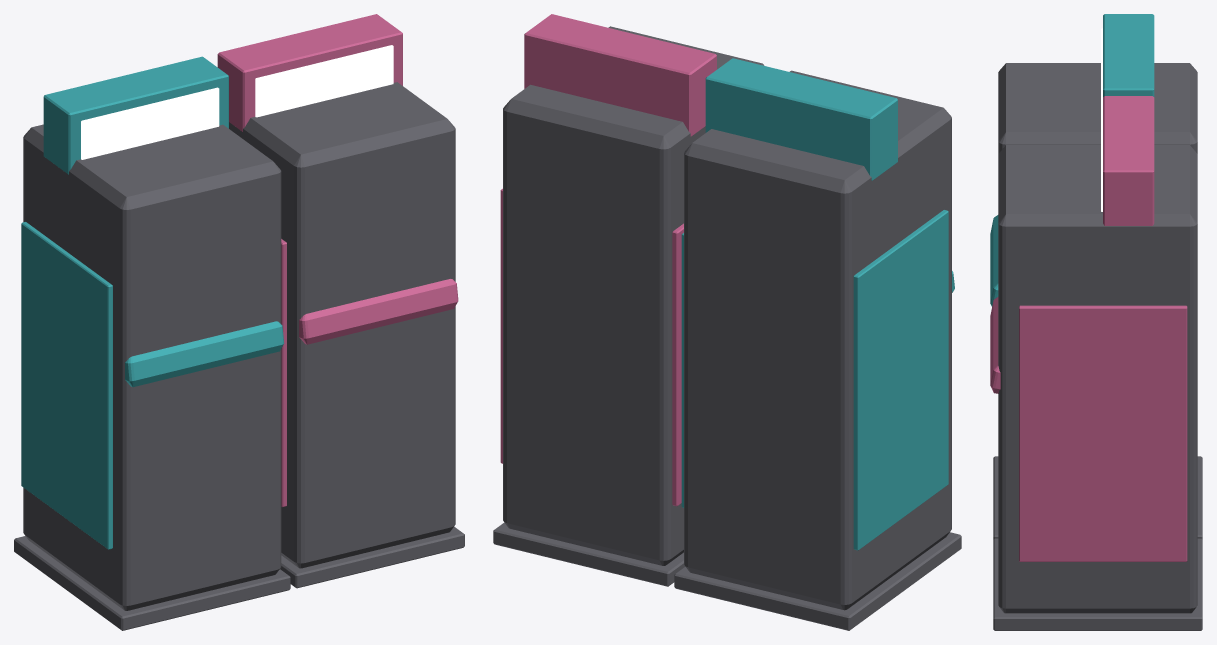
File: motorway-services-and-truck-park-arcade-cabinet-pair-f2f5ab86__35945.glb
The picture shows the model from 3 angles, left to right: view 1: azimuth 30°, elevation 25°; view 2: azimuth 150°, elevation 25°; view 3: azimuth 270°, elevation 25°; orthographic projection. The views are drawn at different scales.
Parts seen in each view (by area): view 1: arcade-cabinet-pair; view 2: arcade-cabinet-pair; view 3: arcade-cabinet-pair.
Boxes of the visible parts, x1=… form: arcade-cabinet-pair: x1=14, y1=14, x2=464, y2=630; arcade-cabinet-pair: x1=493, y1=14, x2=961, y2=630; arcade-cabinet-pair: x1=990, y1=14, x2=1202, y2=630.
Size of the model in its own units: 1.5 by 1.98 by 0.8318.
